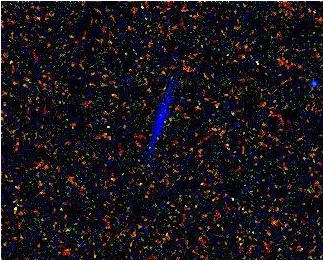star: (153, 100, 183, 130)
